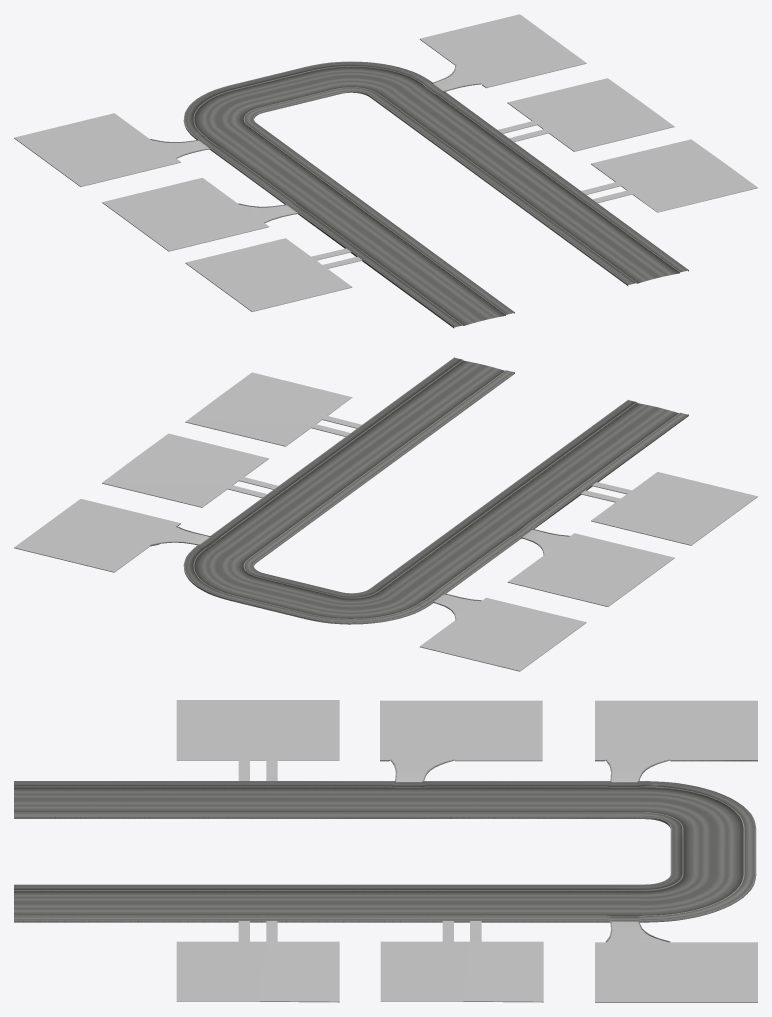
Rendered from Road_Complete_OPT.FBX.
3 views of the same model, one above another, from view 1: azimuth 30°, elevation 25°; view 2: azimuth 150°, elevation 25°; view 3: azimuth 270°, elevation 25° (orthographic). The views are drawn at different scales.
Visible parts, largest first — view 1: Road, Road5, Road1, Road2, Road6, Road3, Road4; view 2: Road, Road1, Road5, Road2, Road3, Road4, Road6; view 3: Road, Road1, Road5, Road2, Road3, Road4, Road6.
Boxes of the visible parts, box(x1,y1,x2,y2) form: Road: box(183, 61, 688, 328); Road5: box(102, 177, 298, 251); Road1: box(14, 113, 210, 186); Road2: box(419, 14, 586, 91); Road6: box(185, 238, 362, 311); Road3: box(498, 78, 674, 151); Road4: box(581, 139, 757, 212); Road: box(183, 357, 688, 624); Road1: box(419, 593, 586, 671); Road5: box(507, 529, 674, 606); Road2: box(14, 499, 209, 572); Road3: box(102, 433, 278, 507); Road4: box(185, 372, 361, 446); Road6: box(581, 472, 757, 545); Road: box(14, 781, 756, 922); Road1: box(595, 700, 757, 781); Road5: box(380, 700, 542, 781); Road2: box(595, 920, 757, 1002); Road3: box(380, 921, 543, 1002); Road4: box(176, 921, 339, 1002); Road6: box(176, 700, 339, 780).
Size of the model in its own units: 7694 by 31.49 by 8026.
